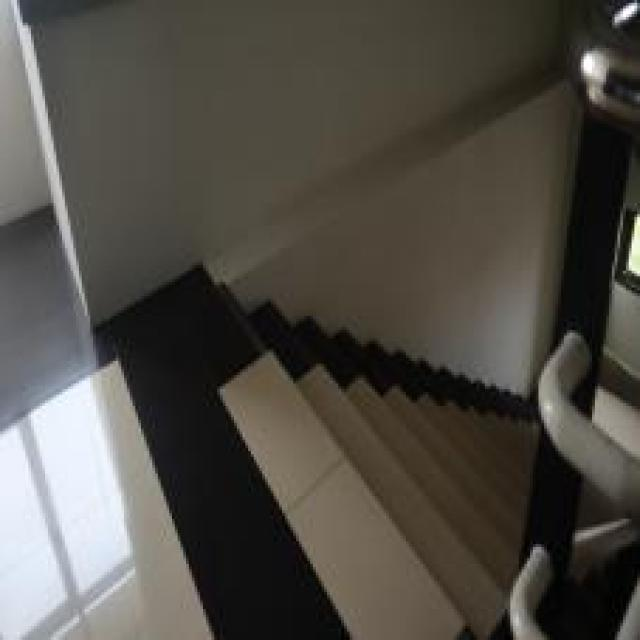downstair: (215, 306, 520, 605)
